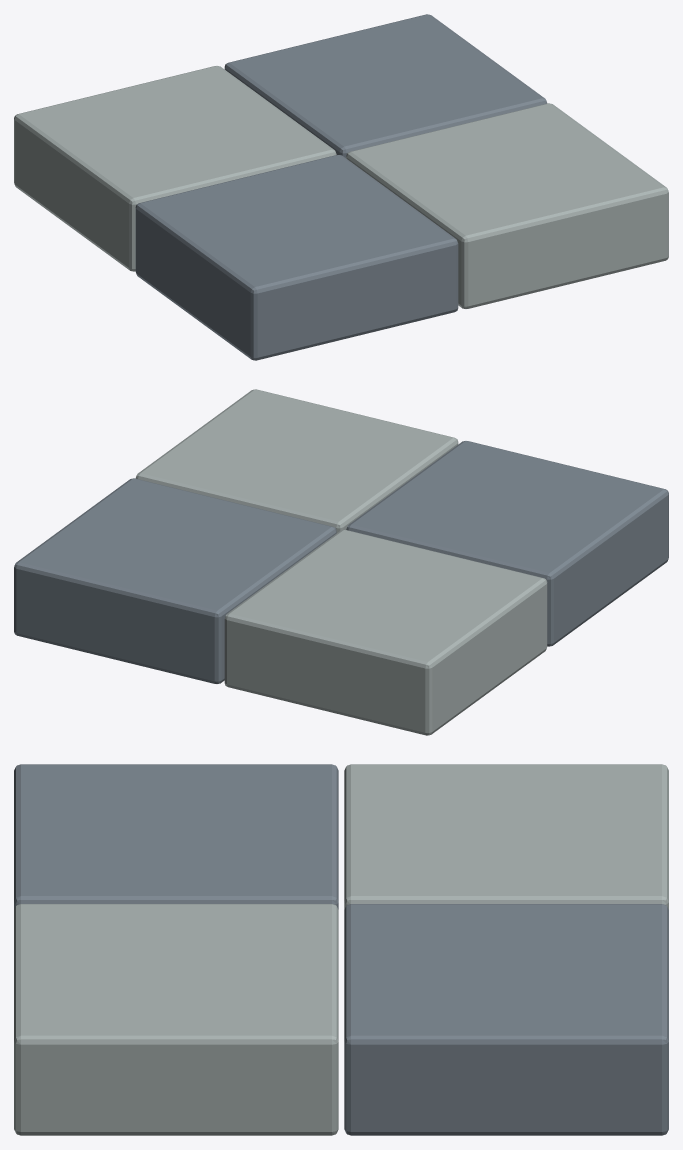
Rendered from stonebase.glb.
The picture shows the model from 3 angles, top to bottom: view 1: azimuth 30°, elevation 25°; view 2: azimuth 150°, elevation 25°; view 3: azimuth 270°, elevation 25°; orthographic projection. The views are drawn at different scales.
Visible parts, largest first — view 1: stonebase; view 2: stonebase; view 3: stonebase.
Boxes of the visible parts, box(x1,y1,x2,y2) form: stonebase: box(14, 14, 668, 360); stonebase: box(14, 389, 668, 735); stonebase: box(14, 764, 668, 1135).
Bounding box in the file's own units: 2.38 × 0.4 × 2.38.
